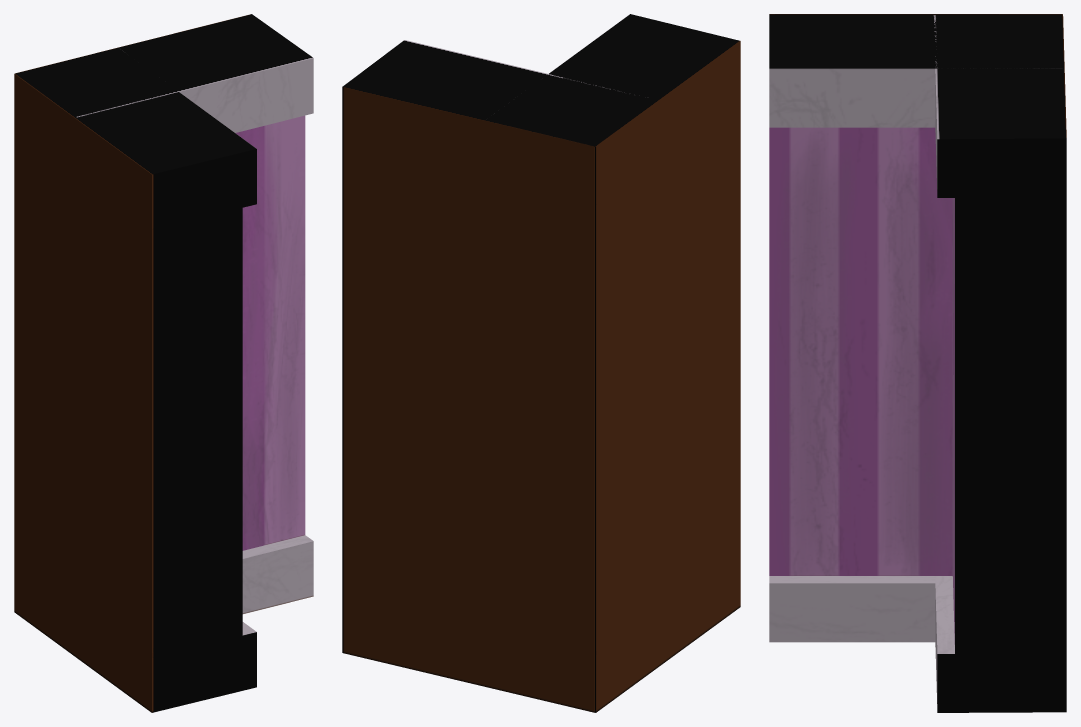
Rendered from Mur 2 F.FBX.
3 views of the same model, side by side, from view 1: azimuth 30°, elevation 25°; view 2: azimuth 150°, elevation 25°; view 3: azimuth 270°, elevation 25° (orthographic). The views are drawn at different scales.
Visible parts, largest first — view 1: Mur 2; view 2: Mur 2; view 3: Mur 2.
Boxes of the visible parts, <box> form: Mur 2: <box>14,14,313,712</box>; Mur 2: <box>342,14,740,712</box>; Mur 2: <box>769,14,1066,712</box>.
Size of the model in its own units: 154 by 328 by 154.
1 material, 1 textured.
